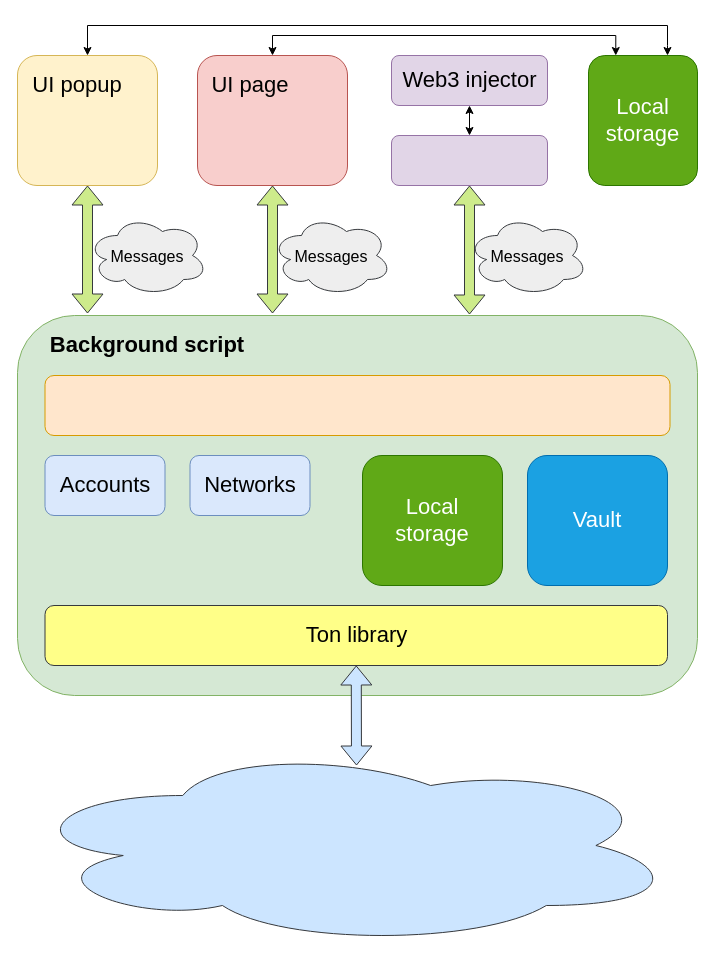
The diagram is 715 pixels wide and 963 high, and some of its shapes have lost their labels. The box of each missing label's shape, as (x1, y1, x2, y2) in pixels:
Content script: (390, 134, 548, 186)
Free TON blockchain: (16, 744, 678, 946)
Main controller: (44, 374, 670, 436)
